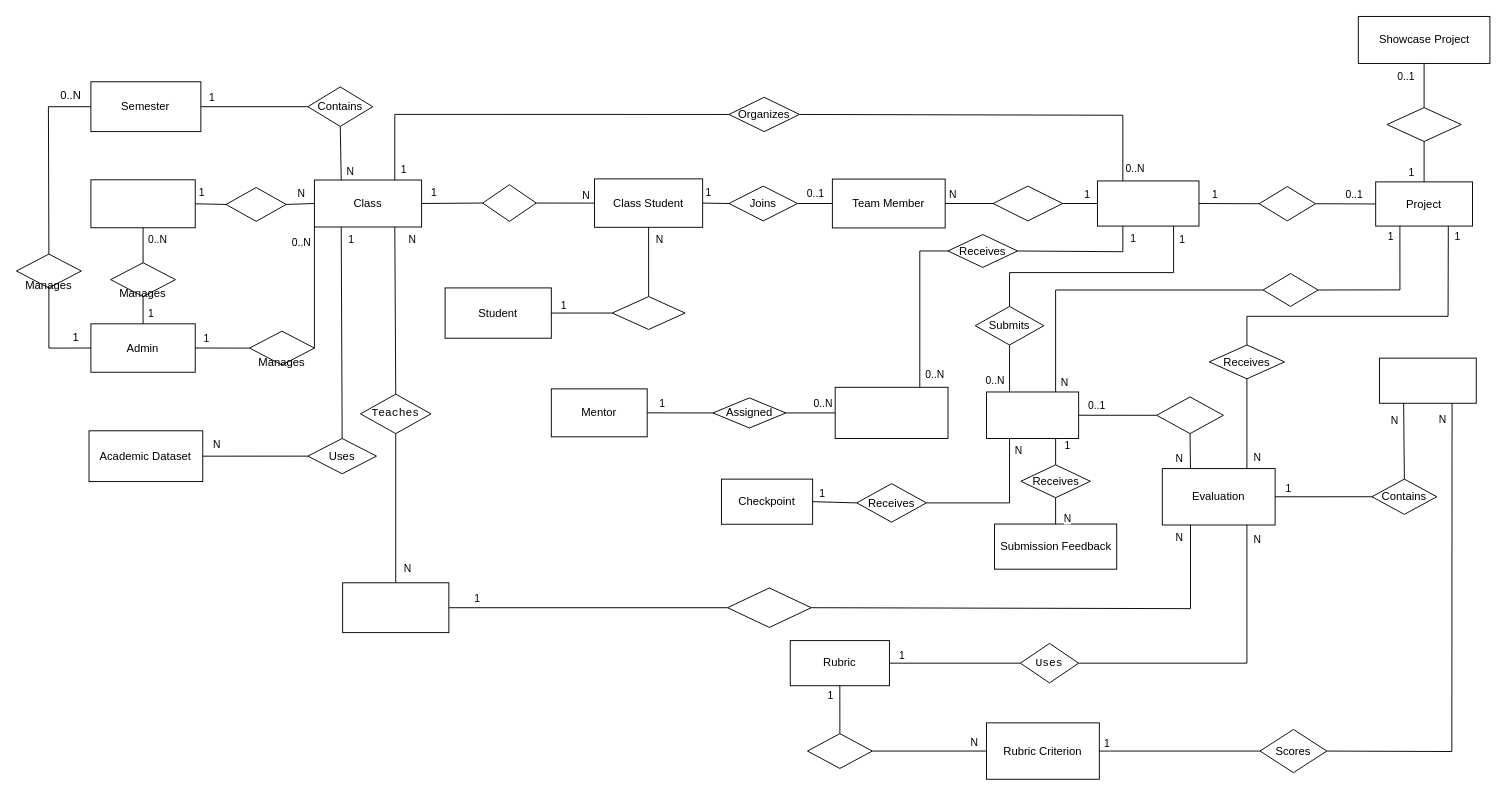
The diagram is 1507 pixels wide and 796 high, and some of its shapes have lost their labels. The centre of each missing label's shape, as x and y in pixels:
"Assesses" goes at [1189,415].
"Conducts" goes at [769,607].
"Course" goes at [142,203].
"Defines" goes at [839,750].
"Enrolls" goes at [648,312].
"Evaluation Detail" goes at [1427,380].
"Has" goes at [509,202].
"Includes" goes at [1027,203].
"Lecturer" goes at [395,607].
"Mentor Assignment" goes at [891,412].
"Opens" goes at [255,204].
"Owns" goes at [1287,203].
"Publishes" goes at [1423,124].
"Submission" goes at [1032,415].
"Team" goes at [1148,203].
"Tracks" goes at [1290,289].
